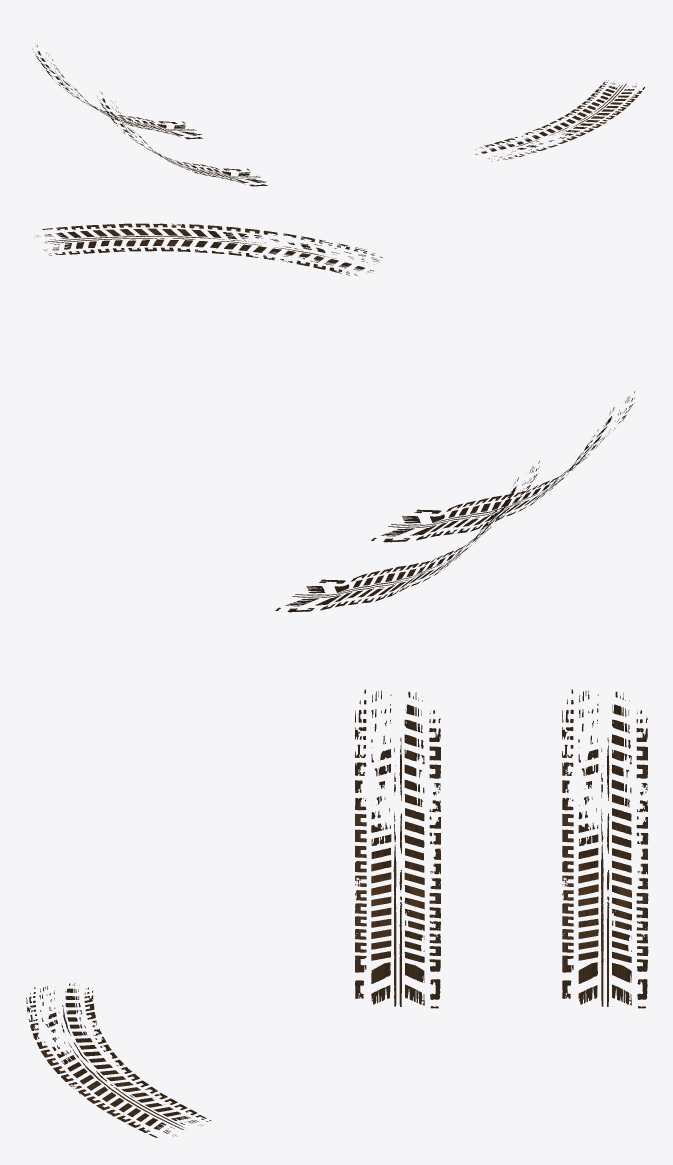
Rendered from tire_tracks.fbx.
3 renders of one model, top to bottom at view 1: azimuth 30°, elevation 25°; view 2: azimuth 150°, elevation 25°; view 3: azimuth 270°, elevation 25°, orthographic. The views are drawn at different scales.
Parts seen in each view (by area): view 1: tire_track_02, tire_track_curved1, tire_track_curved; view 2: tire_track_02, tire_track_curved, tire_track_curved1; view 3: tire_track_curved1, tire_track_curved, tire_track_02.
Boxes of the visible parts, x1,y1,x2,y2 form: tire_track_02: (475,80,644,161); tire_track_curved1: (97,92,267,186); tire_track_curved: (34,45,202,139); tire_track_02: (34,223,382,275); tire_track_curved: (275,460,539,612); tire_track_curved1: (371,391,634,542); tire_track_curved1: (354,689,440,1008); tire_track_curved: (562,689,648,1008); tire_track_02: (26,983,211,1137).
Size of the model in its own units: 3289 by 939 by 2330.
Materials: 1 (1 with a texture image).
